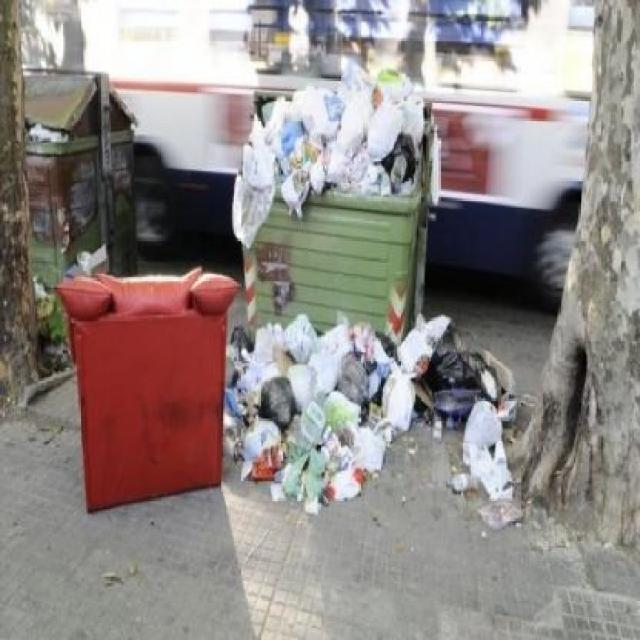garbage: (53, 275, 266, 522), (232, 325, 516, 440), (243, 107, 440, 206), (229, 391, 380, 501), (453, 414, 516, 534)
